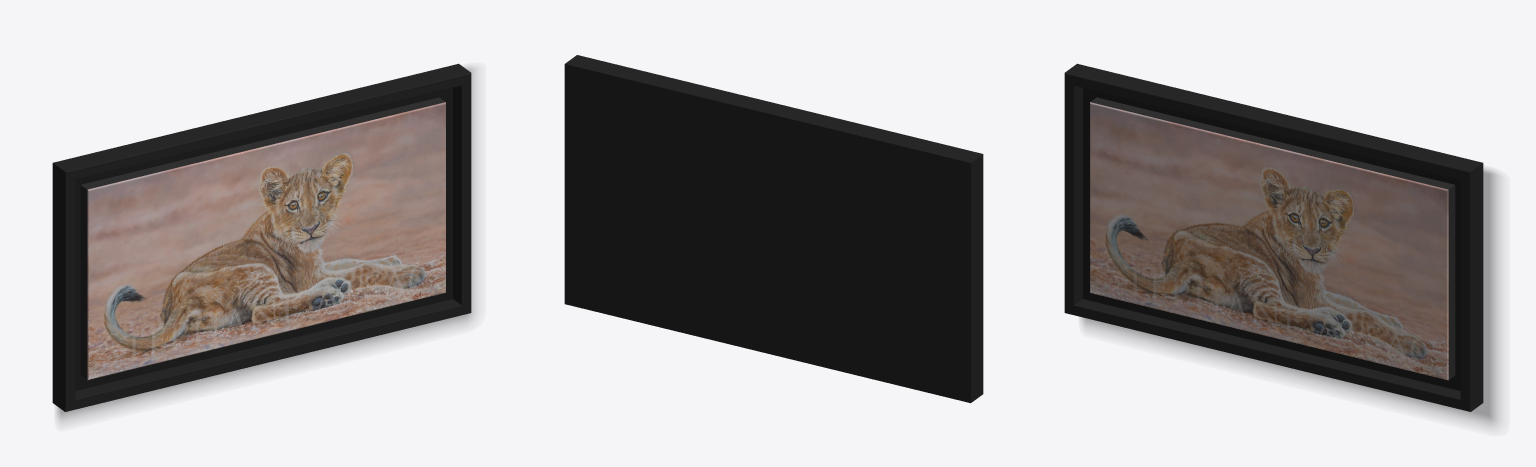
File: tableau-lionceau-classique-1eaedb95.glb
3 views of the same model, side by side, from view 1: azimuth 30°, elevation 25°; view 2: azimuth 150°, elevation 25°; view 3: azimuth 330°, elevation 25° (orthographic).
Parts seen in each view (by area): view 1: Painting; view 2: Painting; view 3: Painting.
Boxes of the visible parts, box(x1,y1,x2,y2) form: Painting: box(52, 63, 474, 421); Painting: box(564, 55, 983, 403); Painting: box(1064, 63, 1498, 425).
Size of the model in its own units: 0.876 by 0.556 by 0.04.
5 materials, 3 textured.
